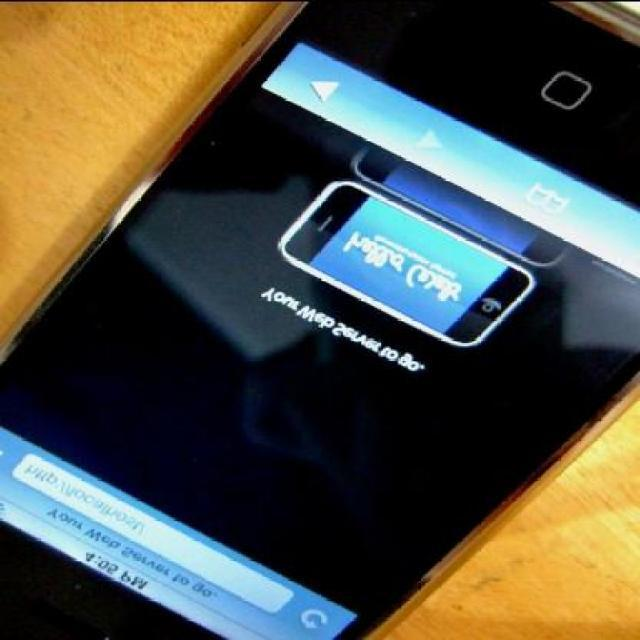phone: (1, 24, 635, 608)
